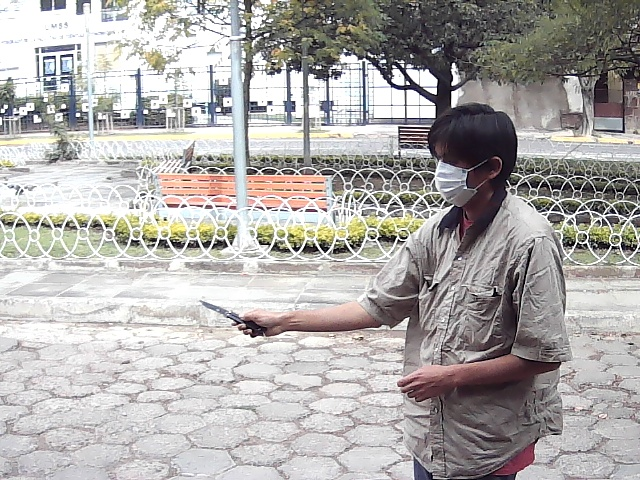cuchillo: (189, 293, 274, 345)
